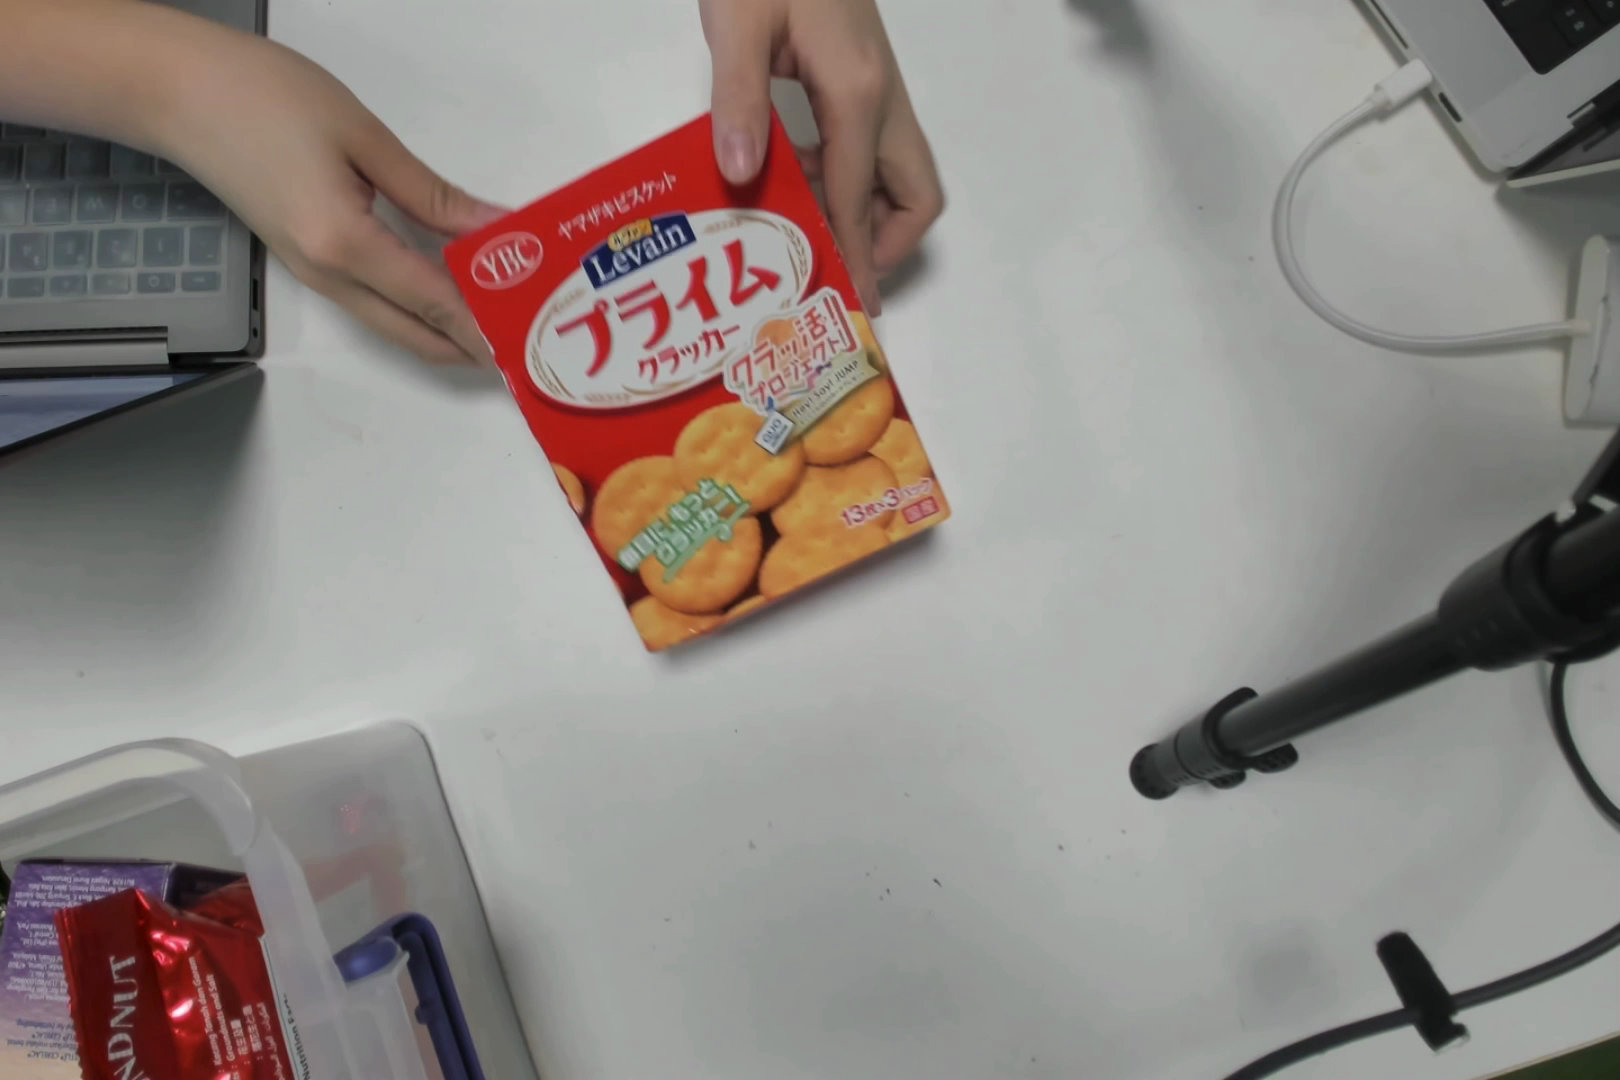c: (481, 219, 879, 592)
